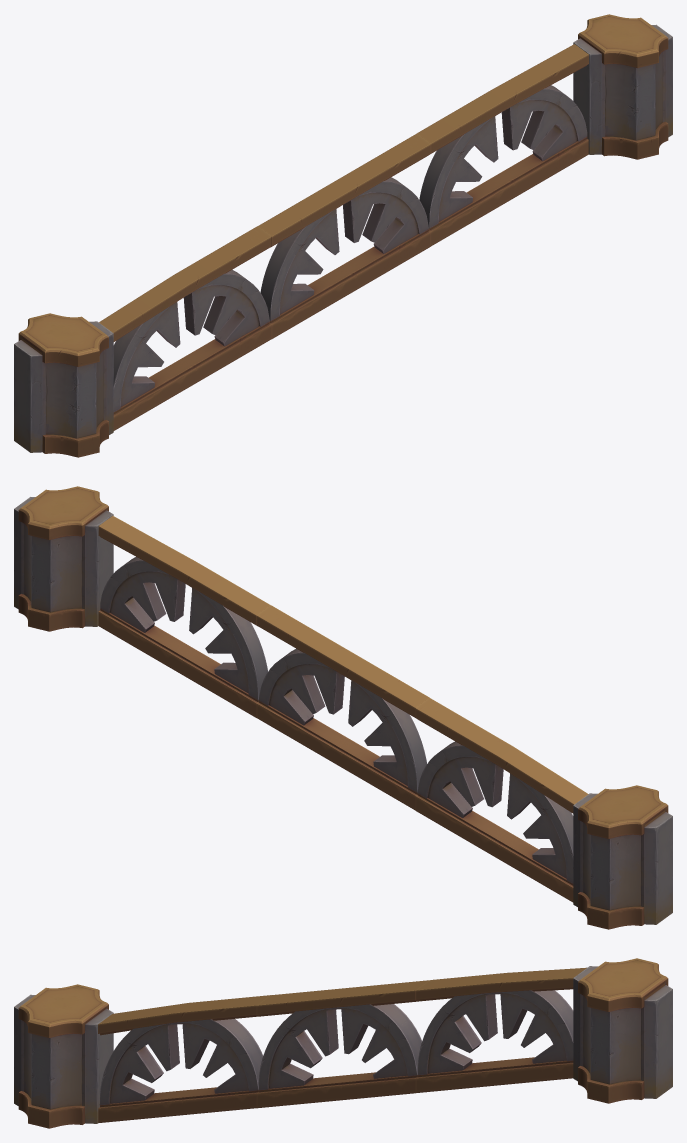
File: prop_SlantFence.fbx
3 views of the same model, one above another, from view 1: azimuth 30°, elevation 25°; view 2: azimuth 150°, elevation 25°; view 3: azimuth 330°, elevation 25° (orthographic).
Visible parts, largest first — view 1: prop_SlantFence; view 2: prop_SlantFence; view 3: prop_SlantFence.
Boxes of the visible parts, box(x1,y1,x2,y2) form: prop_SlantFence: box(14, 14, 672, 457); prop_SlantFence: box(14, 486, 672, 929); prop_SlantFence: box(14, 958, 672, 1128).
Size of what is drawn, in the model's own units: 589 by 233 by 79.68.
